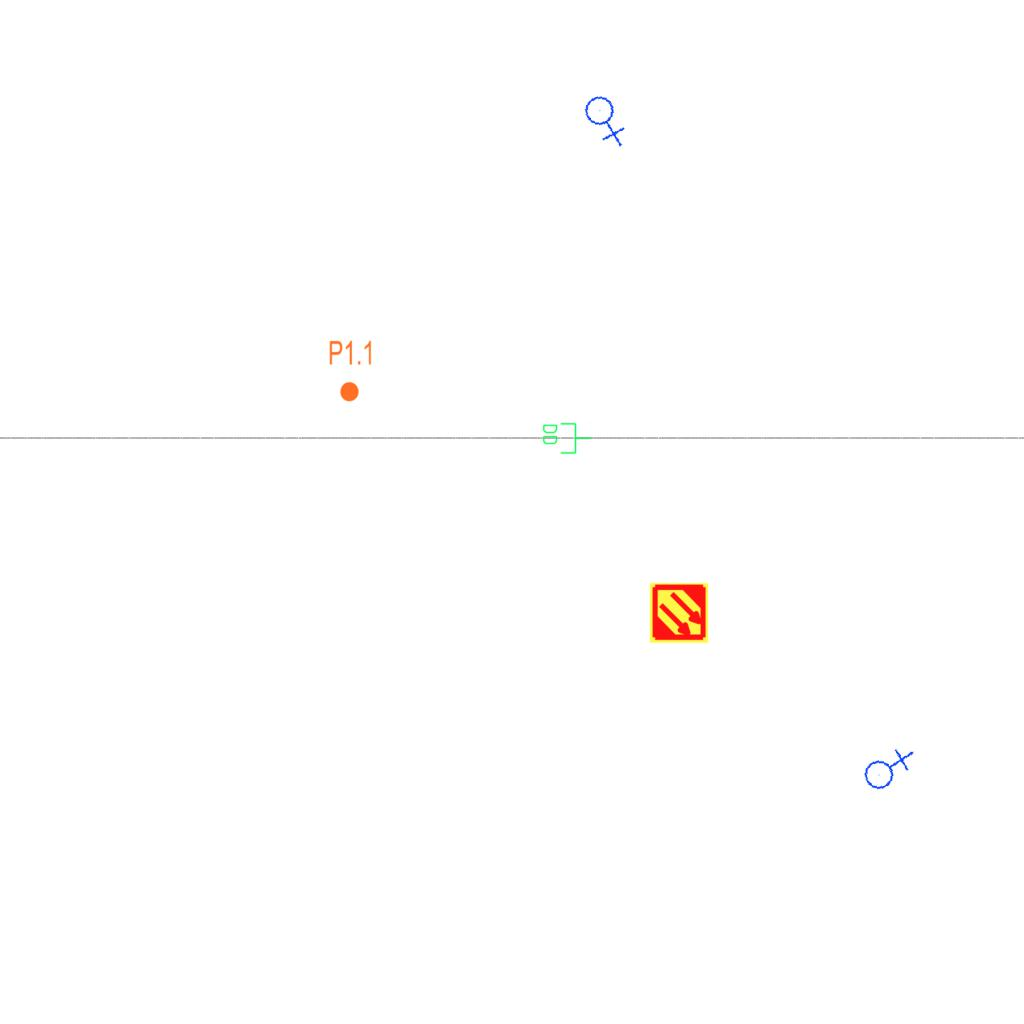ASR_Ansaugrauchmelder: (648, 582, 710, 644)
Datenanschluss_zweifach: (541, 421, 592, 455)
Downlight_LED_Einbauleuchten_Flur: (328, 339, 374, 403)
Elektroanschluss_allgemein_230V_Geraeteanschlussdose_230V: (857, 739, 916, 796), (578, 89, 635, 148)
